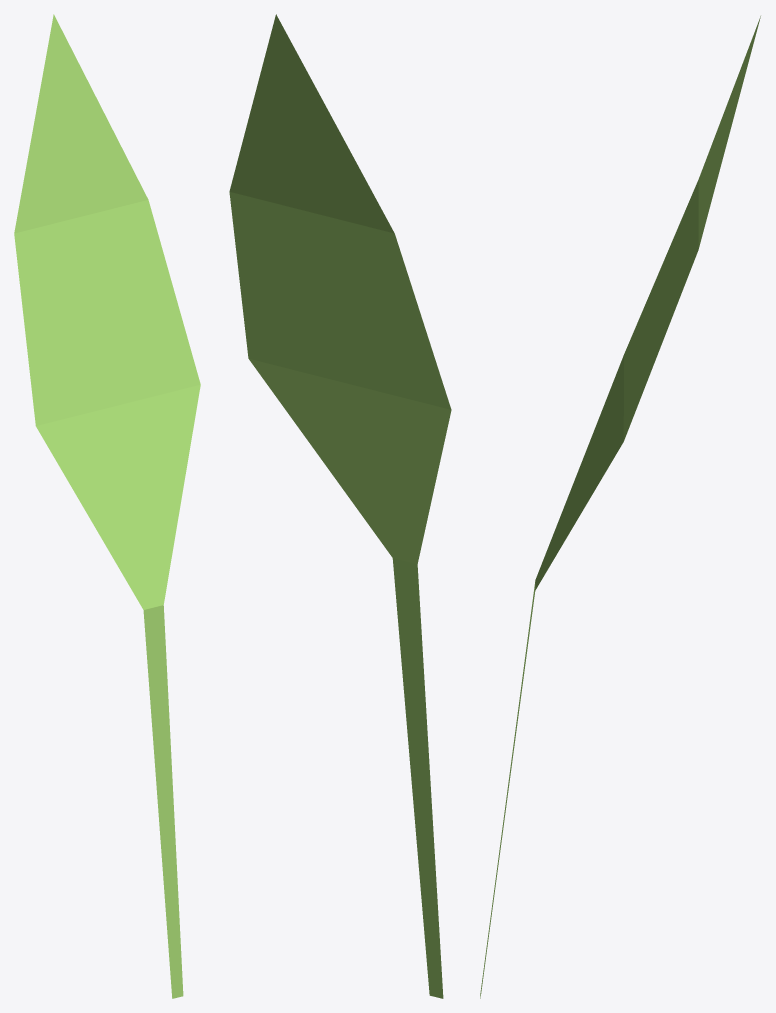
Rendered from Plant_g_OneS_01.fbx.
3 views of the same model, side by side, from view 1: azimuth 30°, elevation 25°; view 2: azimuth 150°, elevation 25°; view 3: azimuth 270°, elevation 25° (orthographic). The views are drawn at different scales.
Parts seen in each view (by area): view 1: Plant_g_OneS_01; view 2: Plant_g_OneS_01; view 3: Plant_g_OneS_01.
Part boxes in pixels (<box>): Plant_g_OneS_01: <box>14,14,200,998</box>; Plant_g_OneS_01: <box>229,14,451,998</box>; Plant_g_OneS_01: <box>480,16,760,998</box>.
Size of the model in its own units: 0.1281 by 0.6605 by 0.171.
